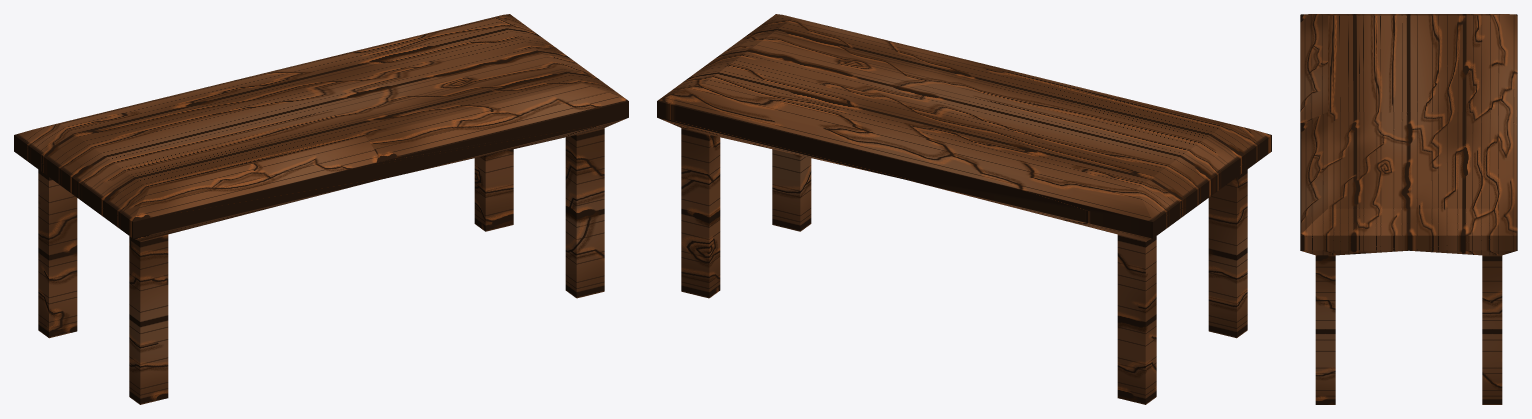
File: model_Banco02_01.fbx
3 views of the same model, side by side, from view 1: azimuth 30°, elevation 25°; view 2: azimuth 150°, elevation 25°; view 3: azimuth 270°, elevation 25° (orthographic). The views are drawn at different scales.
Parts seen in each view (by area): view 1: Cube.001; view 2: Cube.001; view 3: Cube.001.
Boxes of the visible parts, left/top/right/bottom form: Cube.001: left=14, top=14, right=628, bottom=404; Cube.001: left=657, top=14, right=1271, bottom=404; Cube.001: left=1300, top=14, right=1517, bottom=404.
Size of the model in its own units: 347 by 138 by 144.
